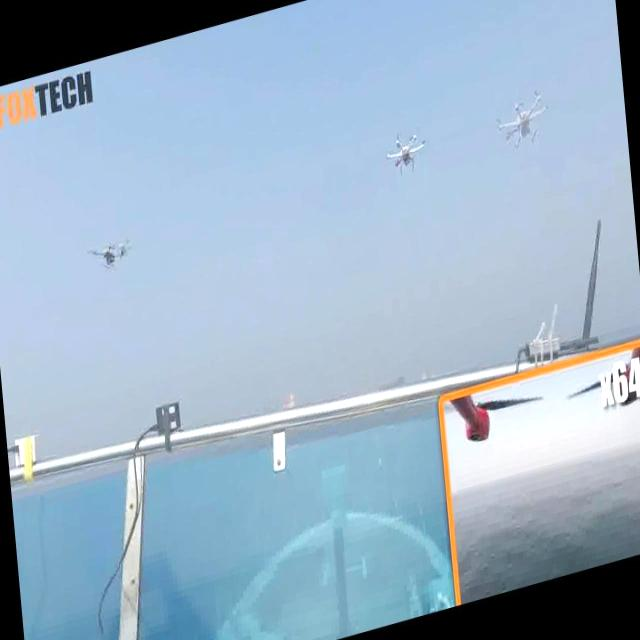drone: (490, 86, 549, 157), (83, 223, 145, 281), (382, 121, 428, 178)
